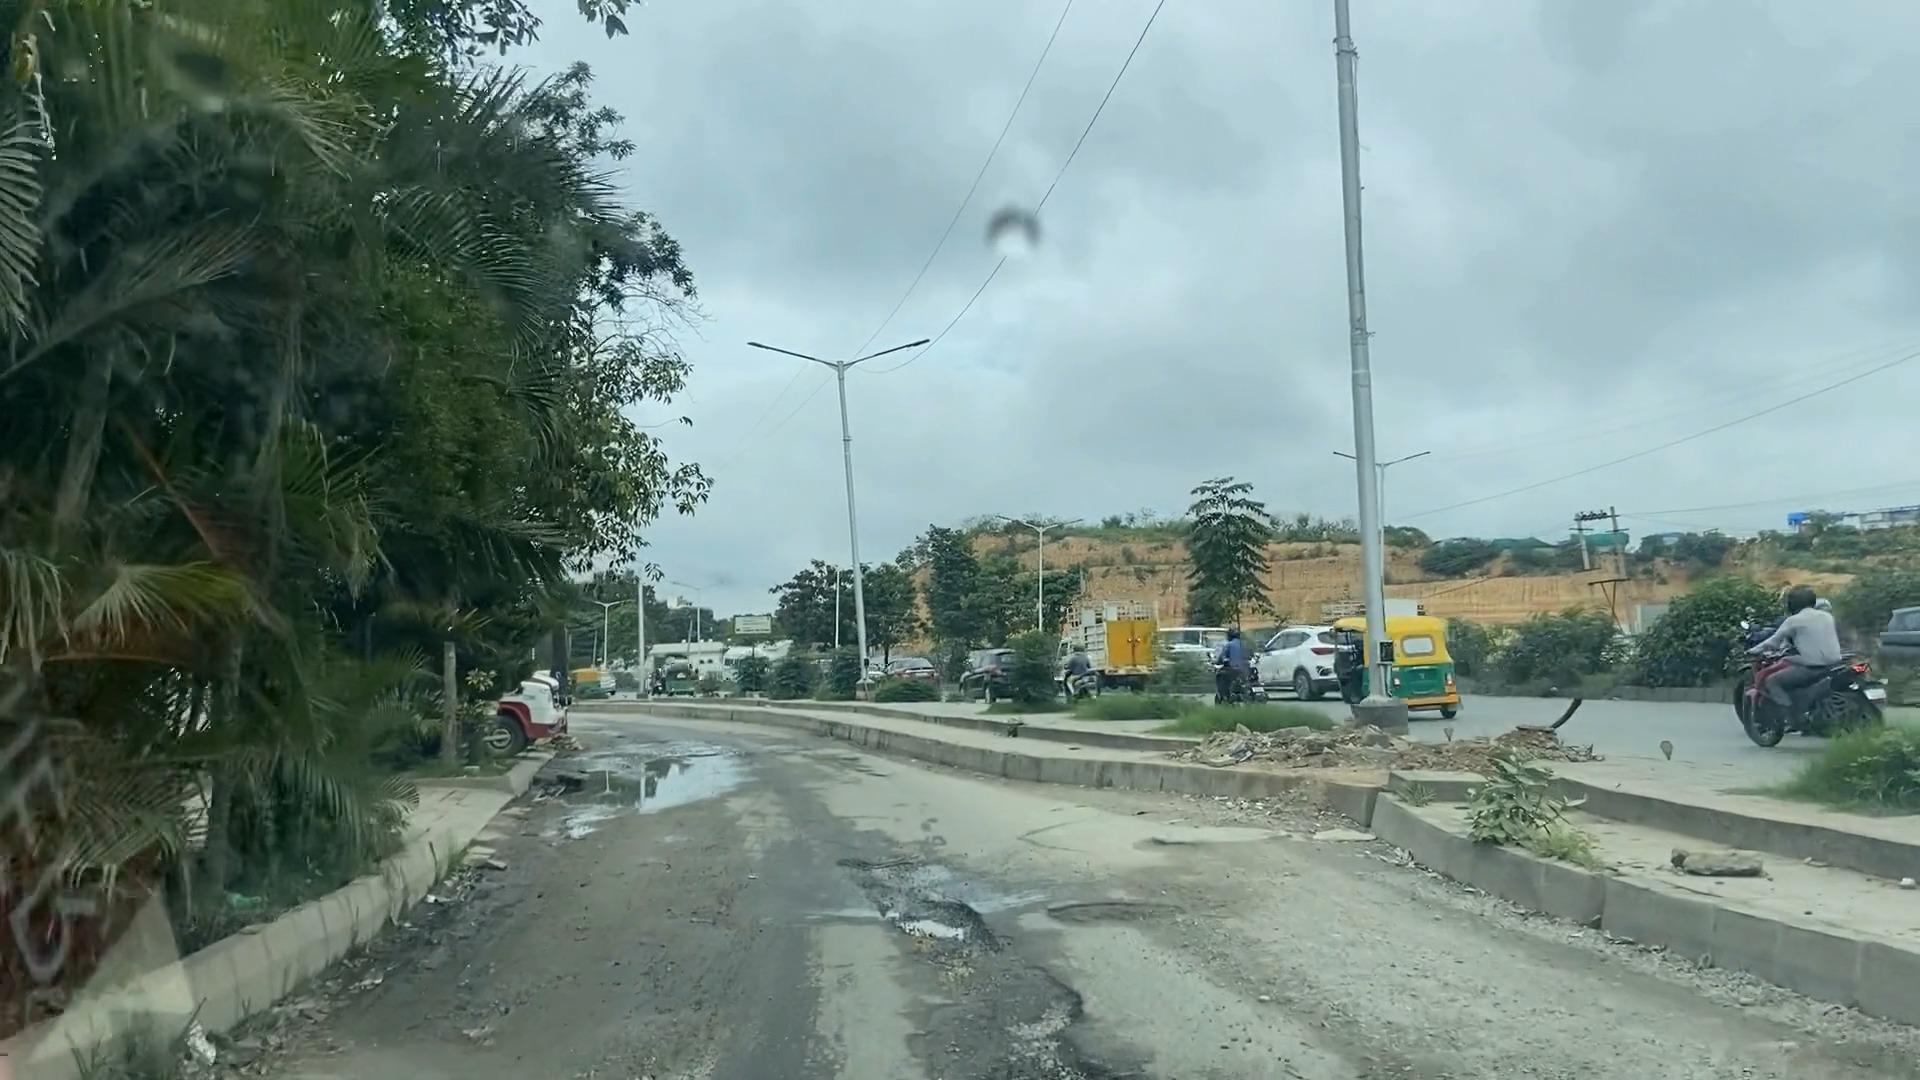RoadDamages: (797, 830, 1017, 973), (851, 980, 1150, 1080), (1130, 800, 1349, 865), (1043, 880, 1170, 937)
